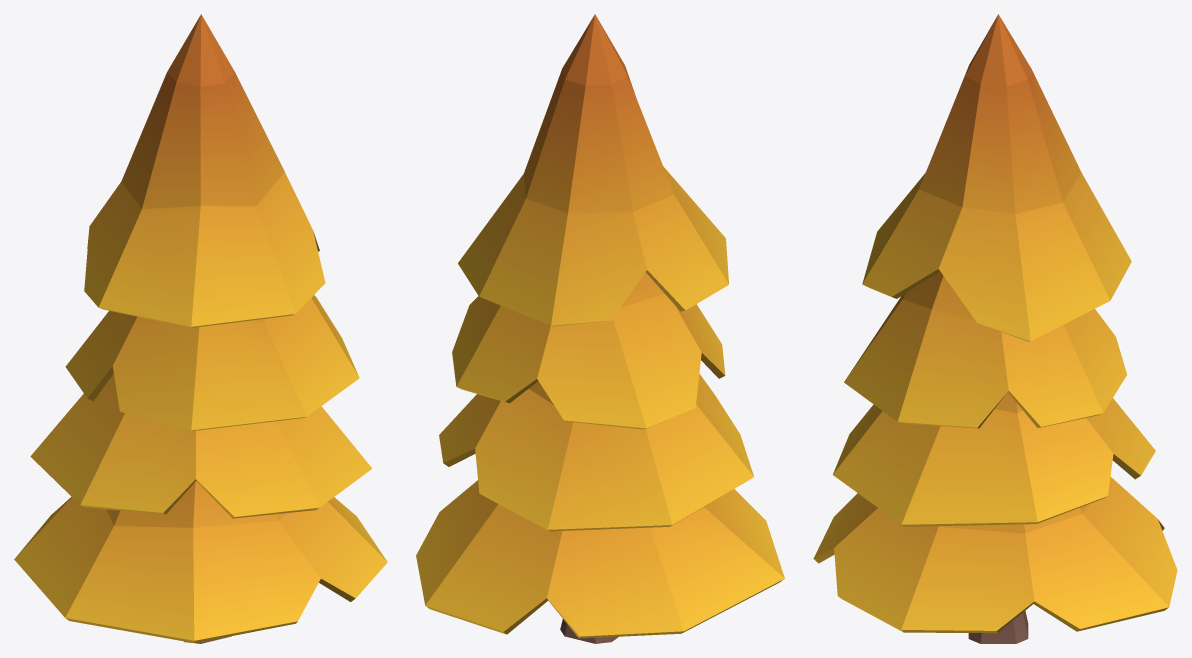
The model's file is AutumnPine5.fbx.
3 renders of one model, left to right at view 1: azimuth 30°, elevation 25°; view 2: azimuth 150°, elevation 25°; view 3: azimuth 270°, elevation 25°, orthographic.
Parts seen in each view (by area): view 1: AutumnPine5; view 2: AutumnPine5; view 3: AutumnPine5.
Part boxes in pixels (box(x1,y1,x2,y2)): AutumnPine5: box(14, 14, 387, 643); AutumnPine5: box(416, 14, 784, 643); AutumnPine5: box(813, 14, 1177, 643).
Size of the model in its own units: 503 by 931 by 498.
